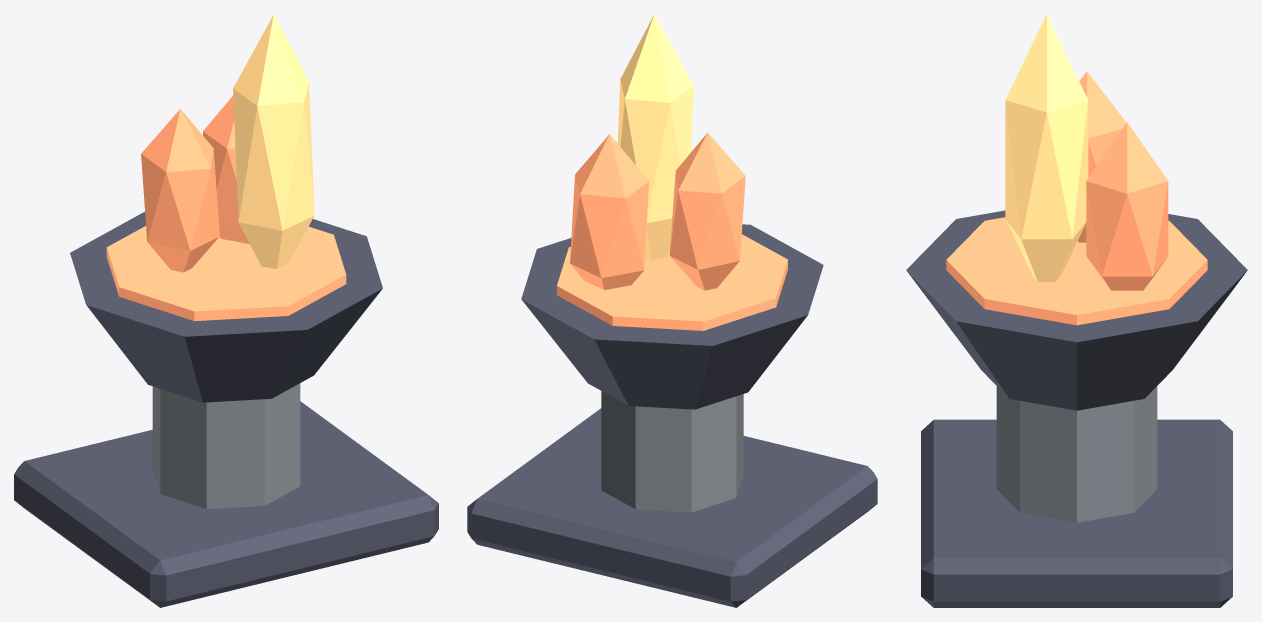
The model's file is braseiro_de_obsidiana.glb.
3 renders of one model, left to right at view 1: azimuth 30°, elevation 25°; view 2: azimuth 150°, elevation 25°; view 3: azimuth 270°, elevation 25°, orthographic. The views are drawn at different scales.
Visible parts, largest first — view 1: pedestal, bacia, coluna, chama_1, brasas, chama_0, chama_2; view 2: pedestal, bacia, coluna, brasas, chama_1, chama_2, chama_0; view 3: pedestal, bacia, coluna, chama_1, brasas, chama_2, chama_0.
Boxes of the visible parts, x1,y1,x2,y2 form: pedestal: (14,401,438,607); bacia: (70,211,382,402); coluna: (152,383,300,508); chama_1: (233,14,314,269); brasas: (106,226,346,321); chama_0: (141,109,219,272); chama_2: (203,95,249,243); pedestal: (467,408,877,607); bacia: (521,224,823,409); coluna: (601,391,743,512); brasas: (557,234,787,330); chama_1: (617,14,693,260); chama_2: (570,134,649,289); chama_0: (669,132,745,290); pedestal: (921,419,1232,607); bacia: (906,210,1247,410); coluna: (996,386,1157,522); chama_1: (1005,14,1088,281); brasas: (946,217,1207,325); chama_2: (1086,122,1168,290); chama_0: (1078,71,1126,242).
Size of the model in its own units: 0.7 by 1.19 by 0.68.
